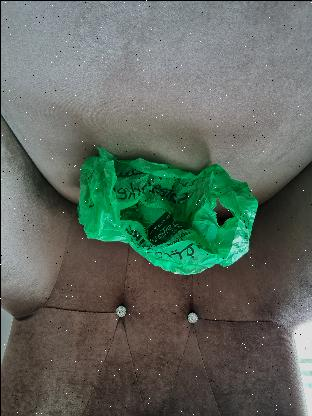Others: (74, 146, 256, 274)
